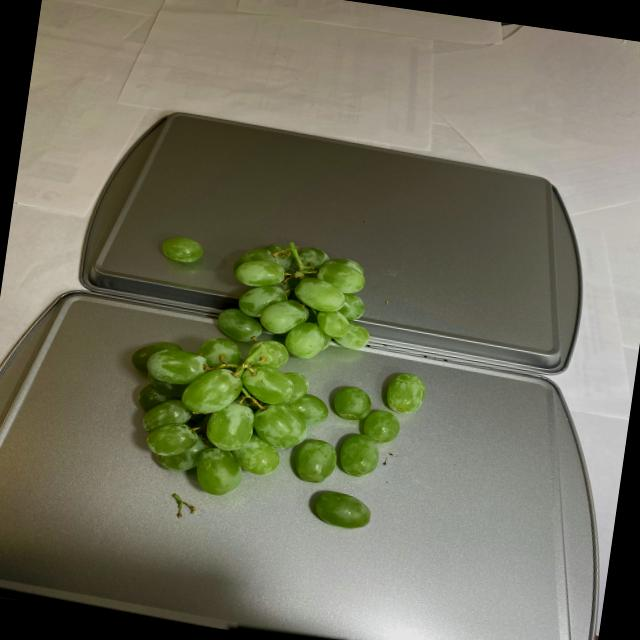grapes: (118, 226, 440, 539)
